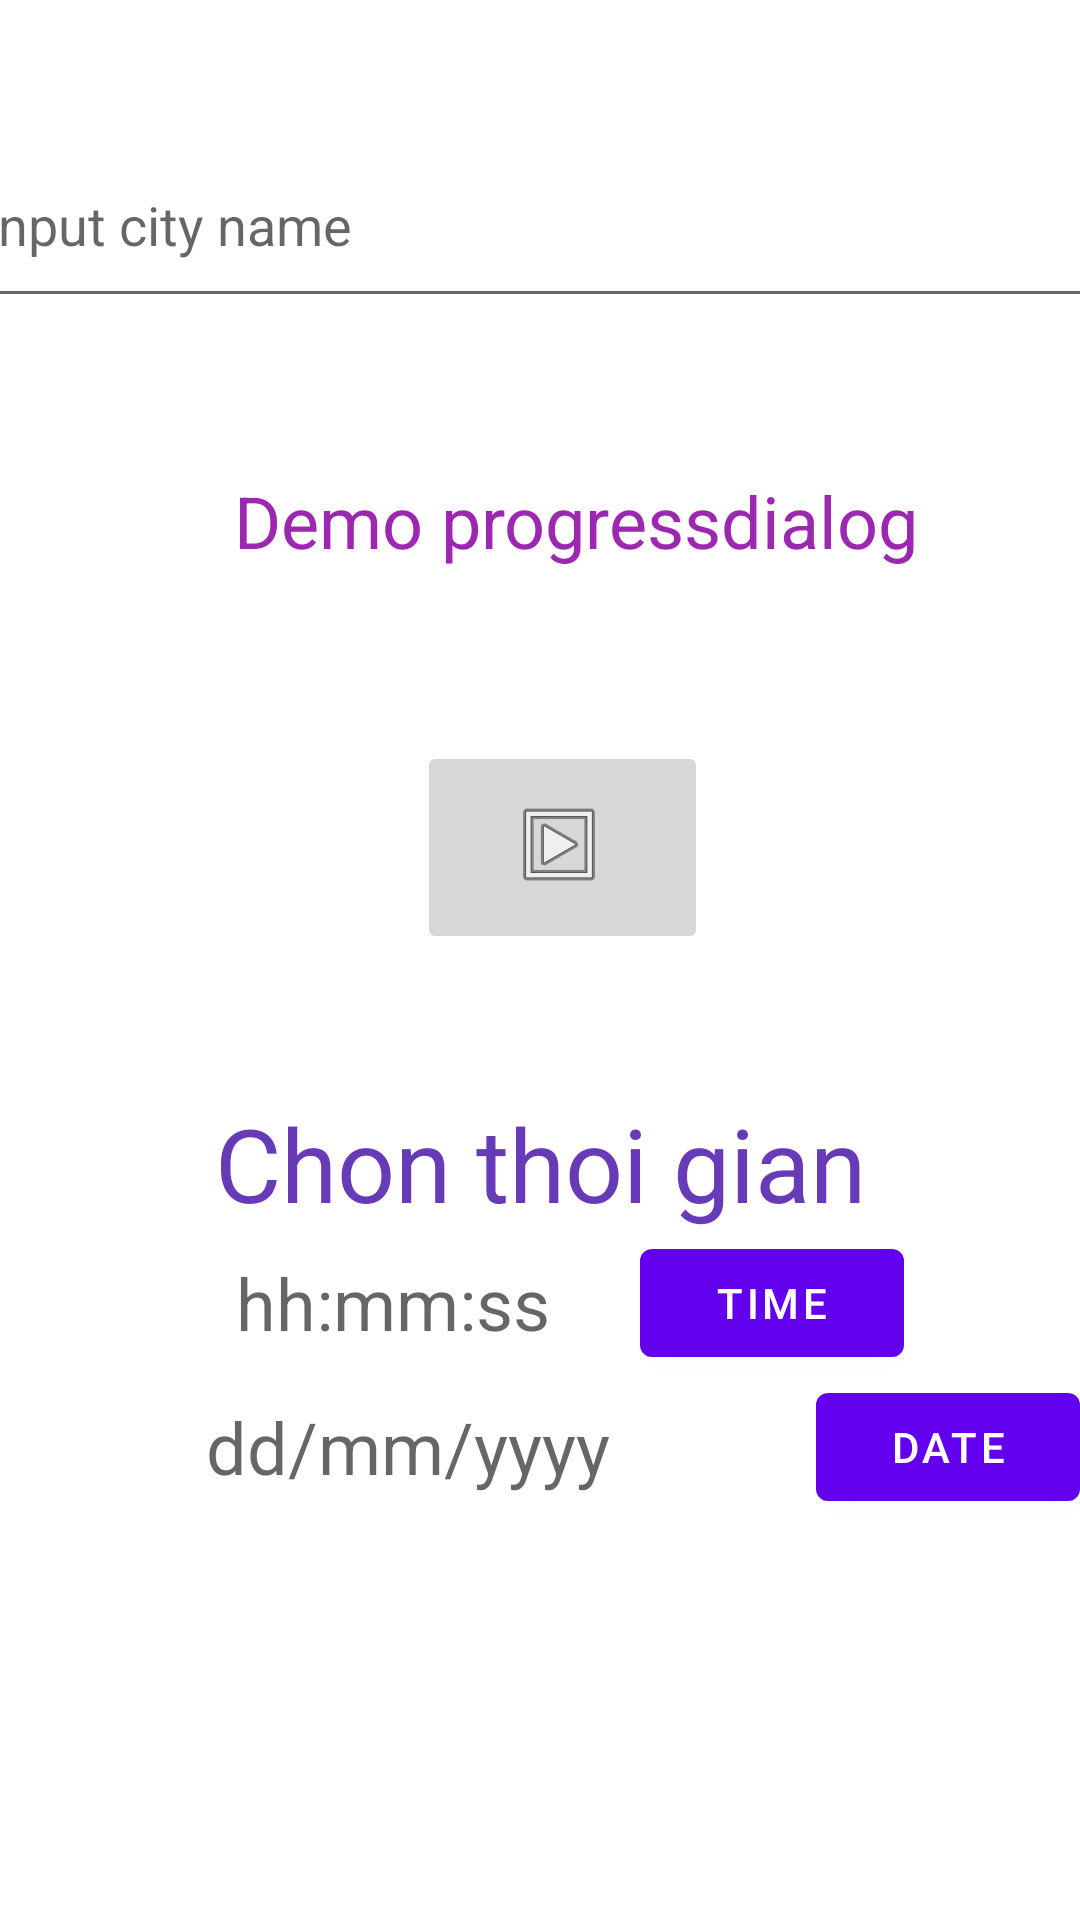

Where icons sit on this 1080 x 1920 app screen, as (x1,y1,x2,y2):
slideshow: (429,759,696,936)
